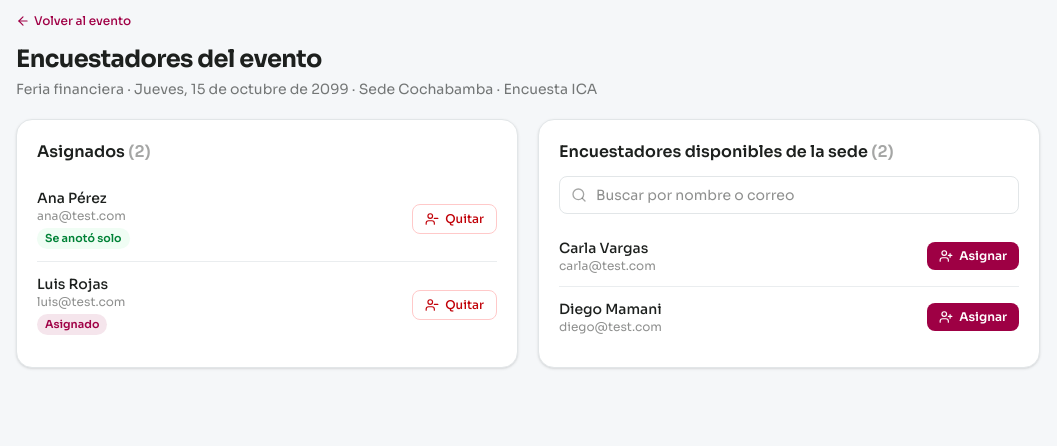
Test: AsignarEncuestadoresPage › muestra el error del servidor al asignar
Click the button with aria-label "Asignar a Carla Vargas": (973, 256) [927,242,1019,270]
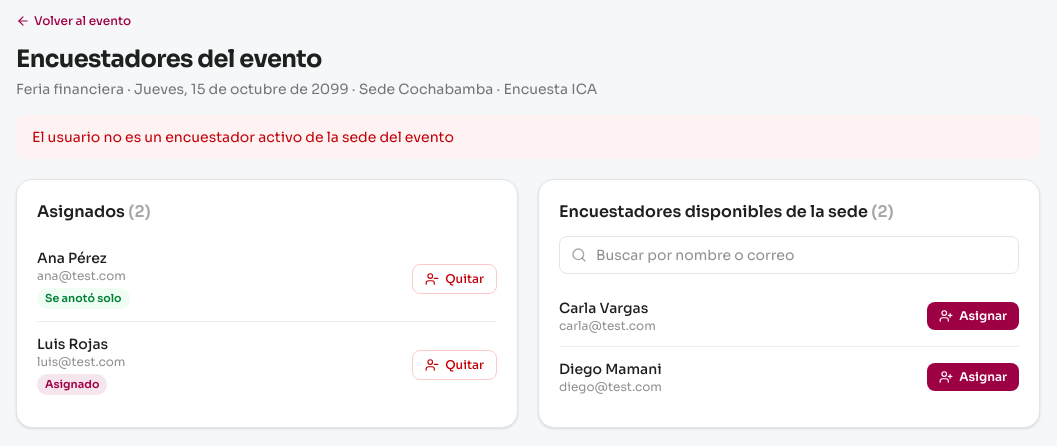
Now the message shows "no es un encuestador activo", box [32,128,454,146]
